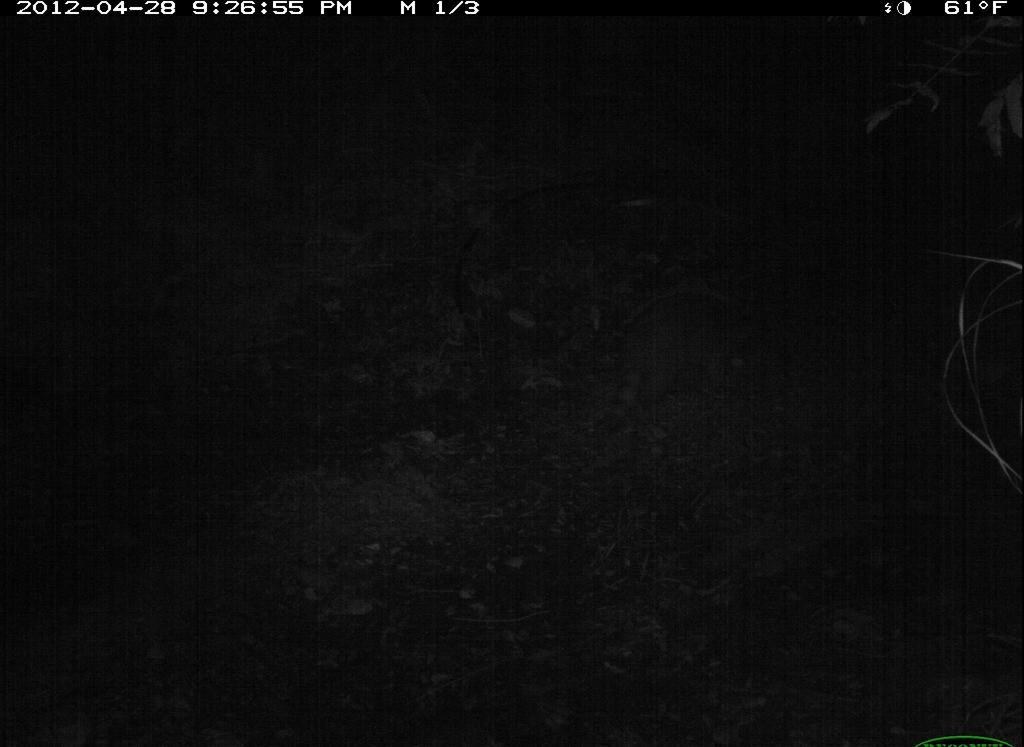raccoon: (583, 283, 758, 447)
